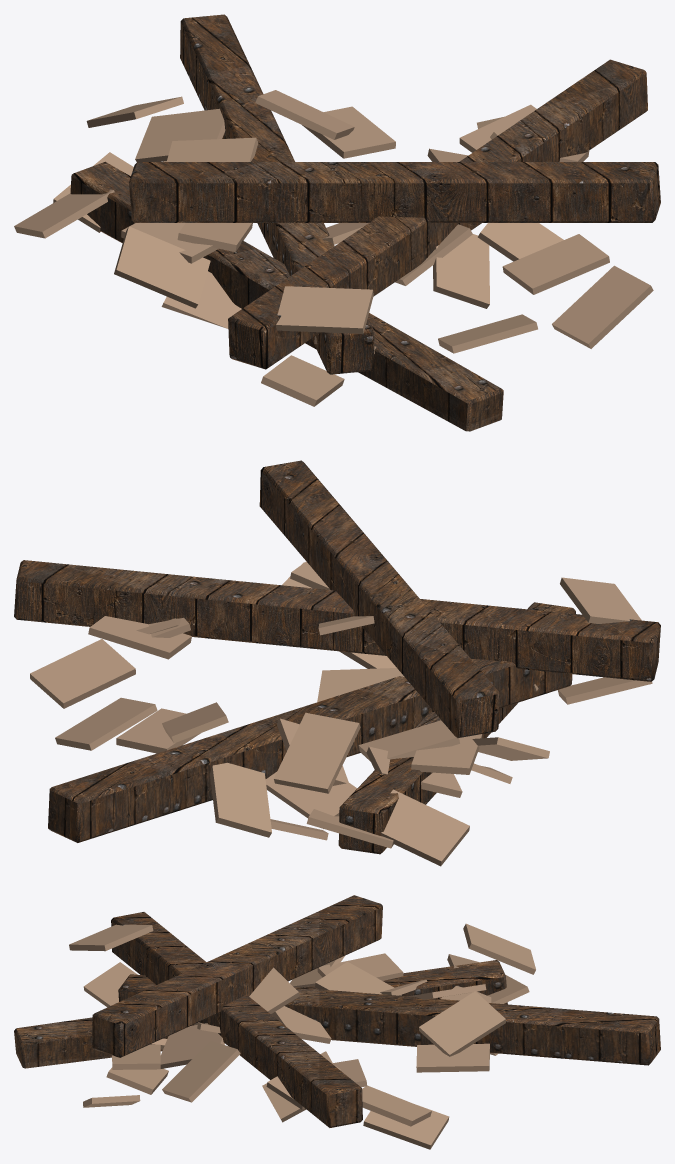
File: roof-debris-v01.glb
3 renders of one model, top to bottom at view 1: azimuth 30°, elevation 25°; view 2: azimuth 150°, elevation 25°; view 3: azimuth 270°, elevation 25°, orthographic. The views are drawn at different scales.
Visible parts, largest first — view 1: roof-debris; view 2: roof-debris; view 3: roof-debris.
Boxes of the visible parts, bbox=[...] form: roof-debris: bbox=[14, 14, 660, 431]; roof-debris: bbox=[14, 460, 660, 866]; roof-debris: bbox=[14, 895, 660, 1149].
Size of the model in its own units: 2.07 by 0.5941 by 2.66.
2 materials, 1 textured.
